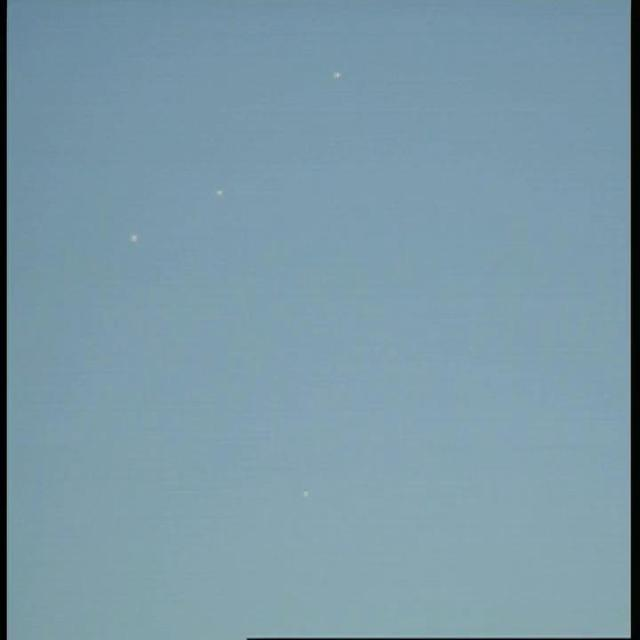drone: (126, 226, 145, 246), (298, 484, 312, 504), (328, 66, 343, 82), (212, 184, 228, 198)
